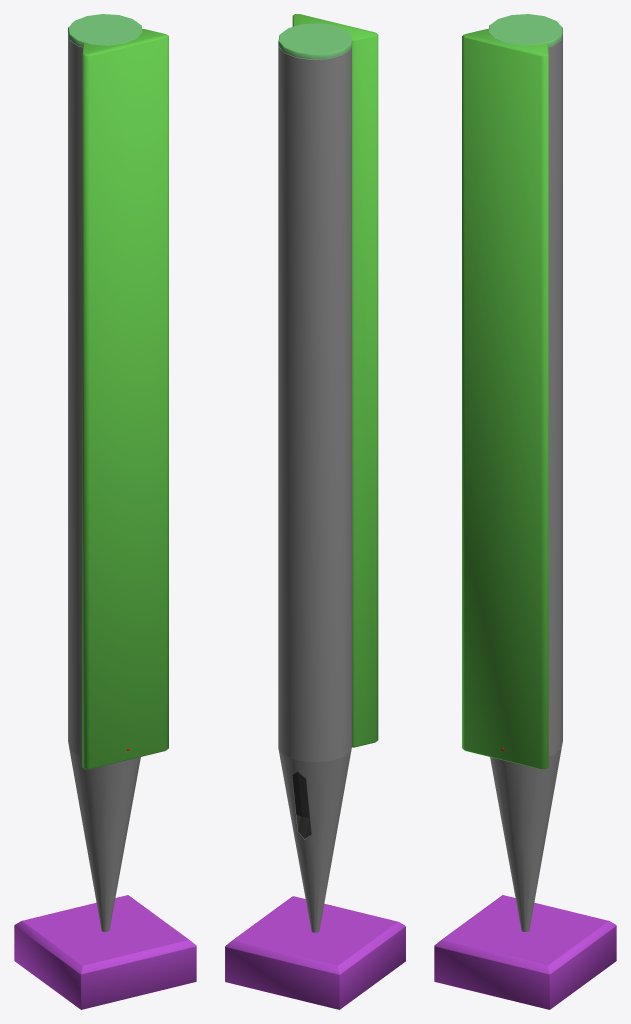
File: House_Speaker.FBX
3 views of the same model, side by side, from view 1: azimuth 30°, elevation 25°; view 2: azimuth 150°, elevation 25°; view 3: azimuth 330°, elevation 25° (orthographic).
Parts seen in each view (by area): view 1: House_Speaker_Cloth, House_Speaker_Metal_03, House_Speaker_Metal_02, House_Speaker_Metal_01; view 2: House_Speaker_Metal_03, House_Speaker_Cloth, House_Speaker_Metal_02, House_Speaker_Metal_01, House_Speaker_Black; view 3: House_Speaker_Cloth, House_Speaker_Metal_03, House_Speaker_Metal_02, House_Speaker_Metal_01.
Part boxes in pixels (x1,y1,x2,y2): House_Speaker_Cloth: (82,29,168,769); House_Speaker_Metal_03: (68,33,140,931); House_Speaker_Metal_02: (14,895,196,1009); House_Speaker_Metal_01: (68,14,142,46); House_Speaker_Metal_03: (278,46,351,932); House_Speaker_Cloth: (292,14,378,747); House_Speaker_Metal_02: (225,896,405,1009); House_Speaker_Metal_01: (278,23,351,59); House_Speaker_Black: (292,771,311,838); House_Speaker_Cloth: (462,29,548,769); House_Speaker_Metal_03: (490,33,562,931); House_Speaker_Metal_02: (434,895,616,1009); House_Speaker_Metal_01: (488,14,562,46).
Size of the model in its own units: 8.86 by 68.74 by 8.86.
